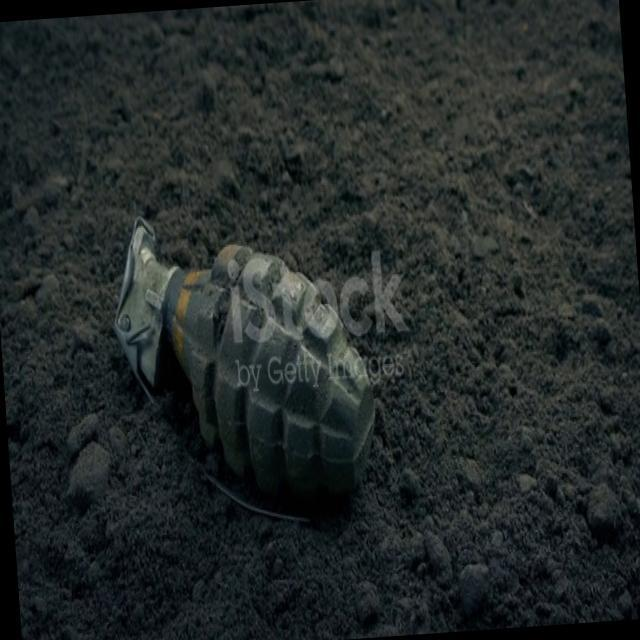grenade: (105, 199, 382, 536)
